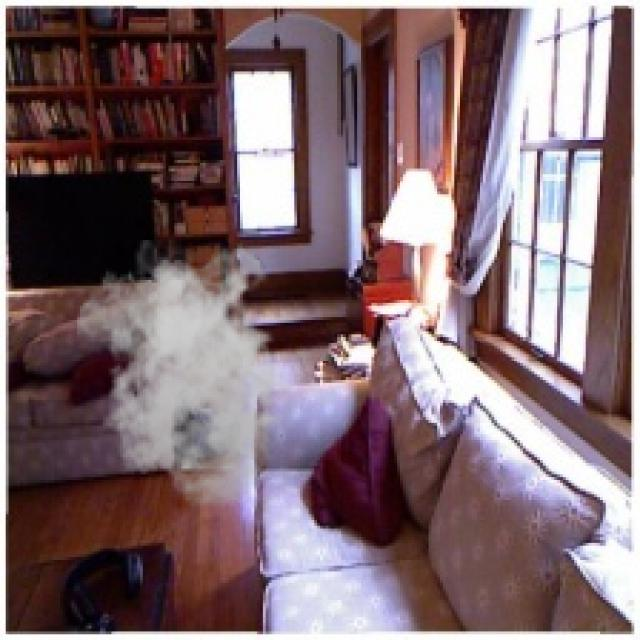smoke: (77, 240, 306, 509)
